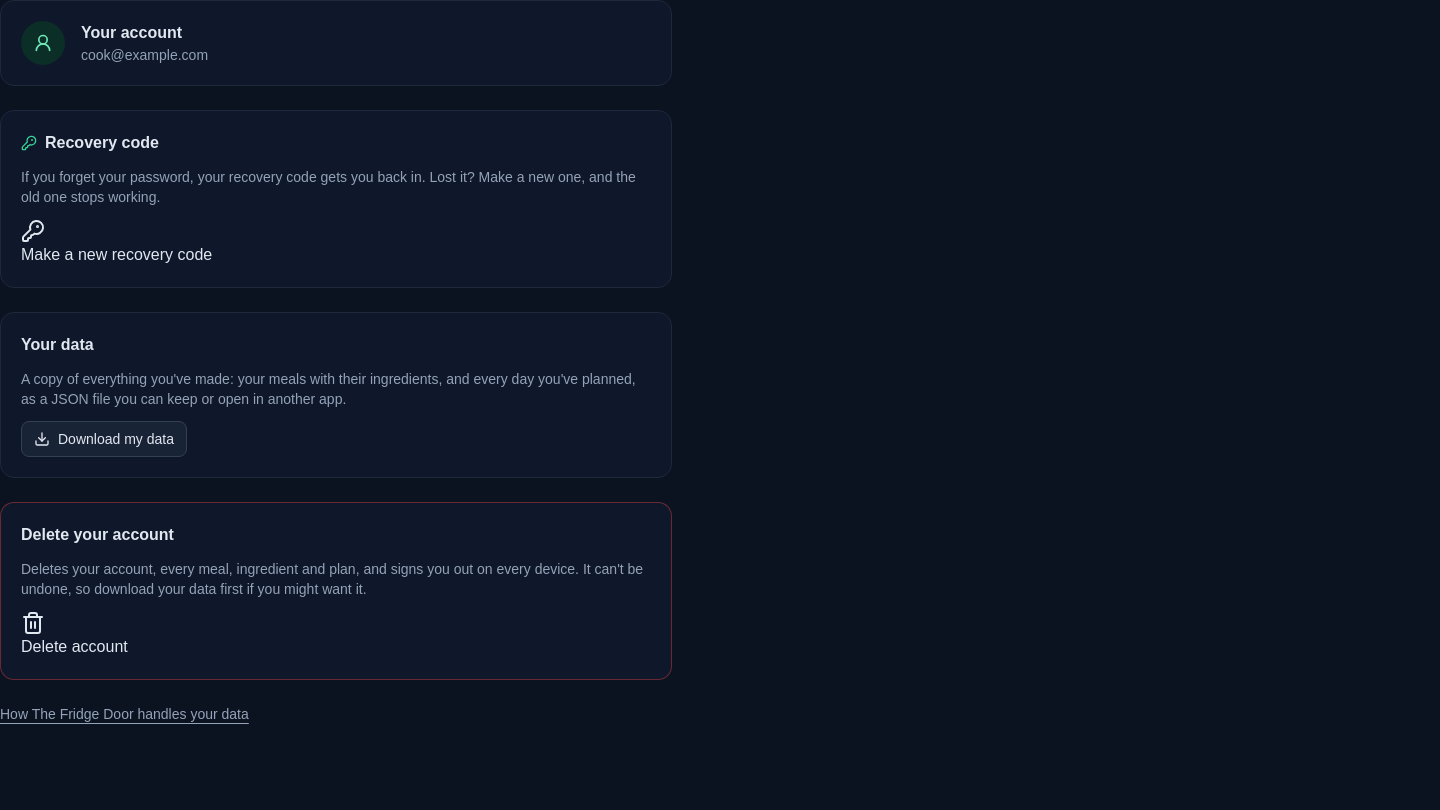
Test: deleting › keeps the dialog open with the reason when the password is wrong
Step 1. Click the button "Delete account" → (74, 635), box [21,611,128,659]
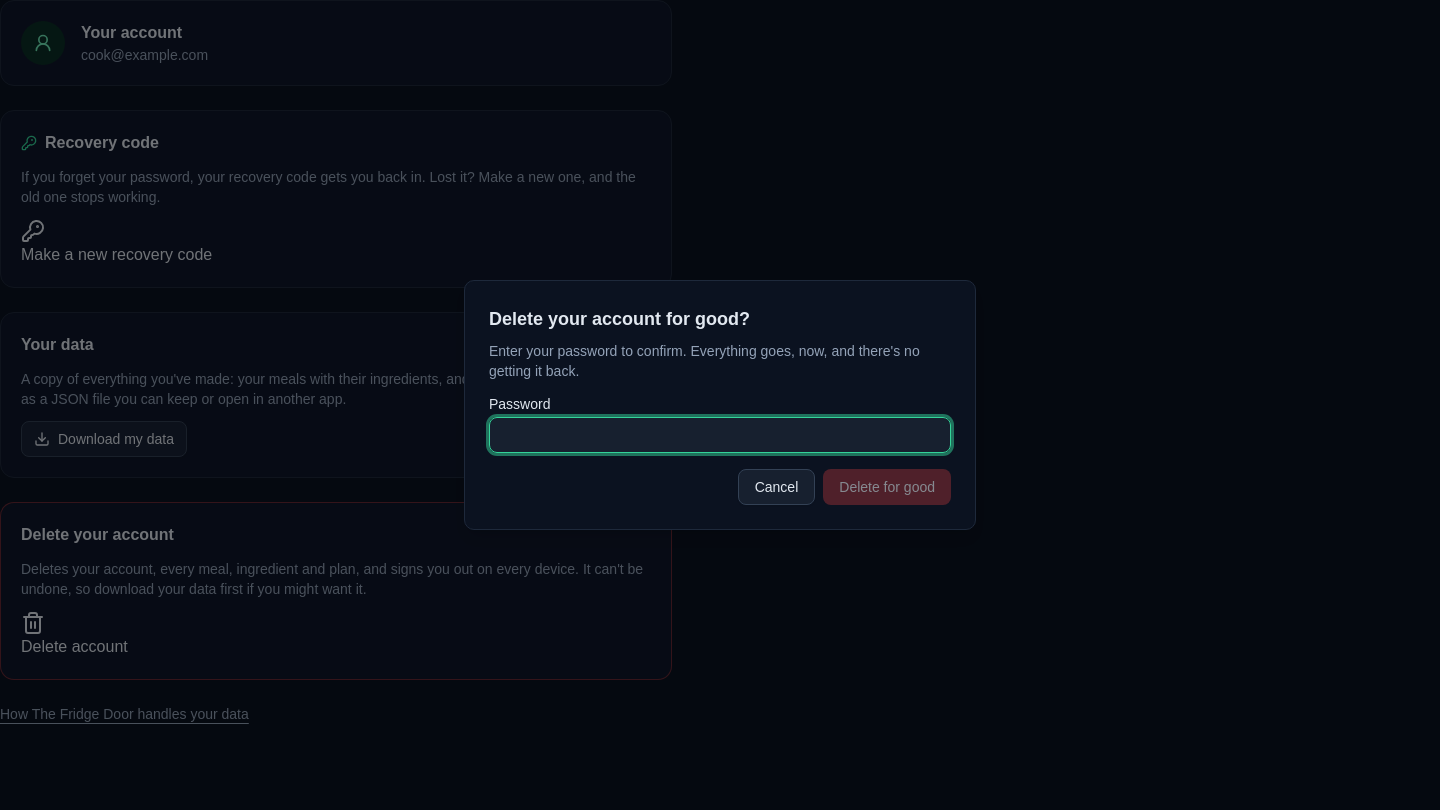
Step 2. Type "guess" into the password field labelled "Password" → (720, 435), box [489,417,951,453]
Then press Enter
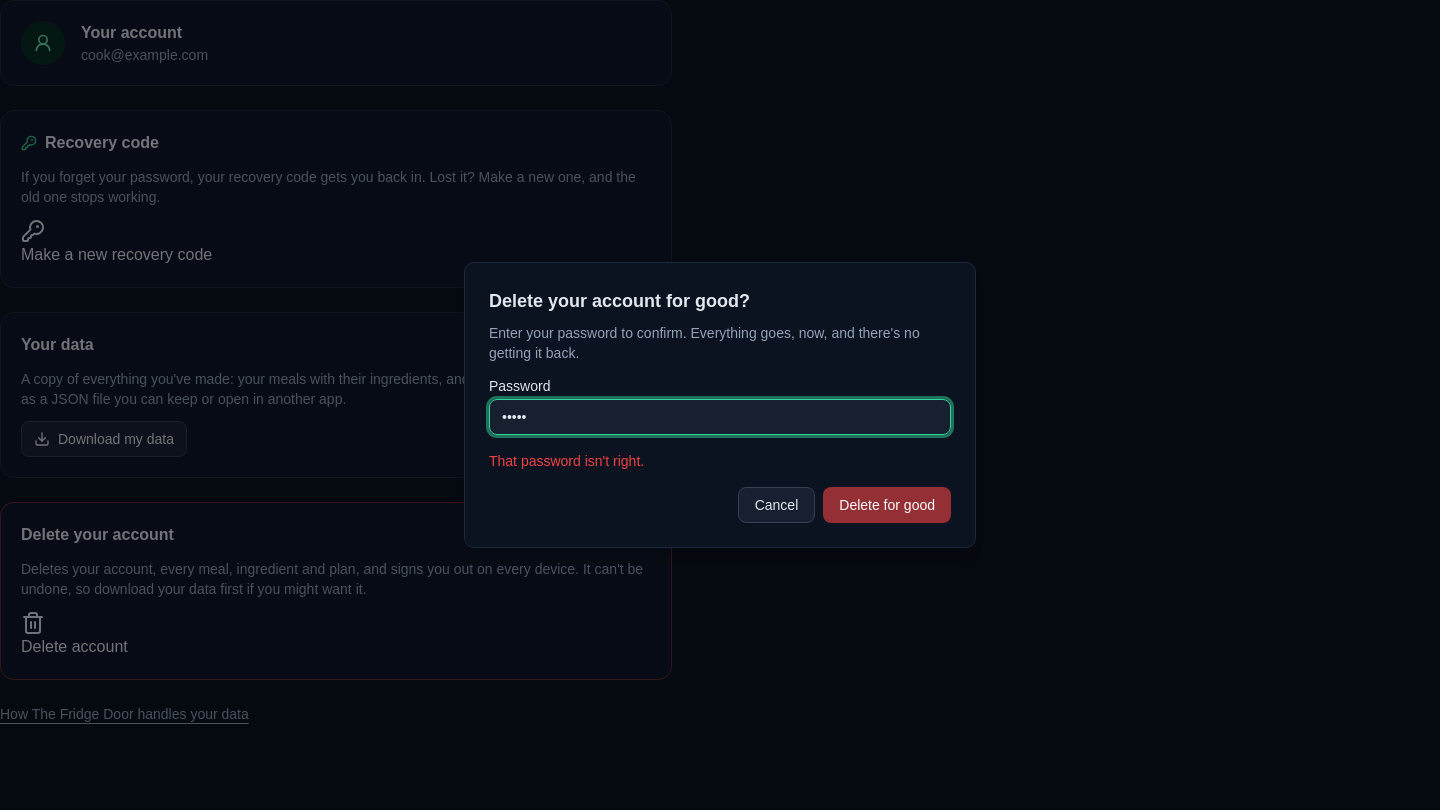
Now the message reads "That password isn't right.", box [489,453,644,469]
